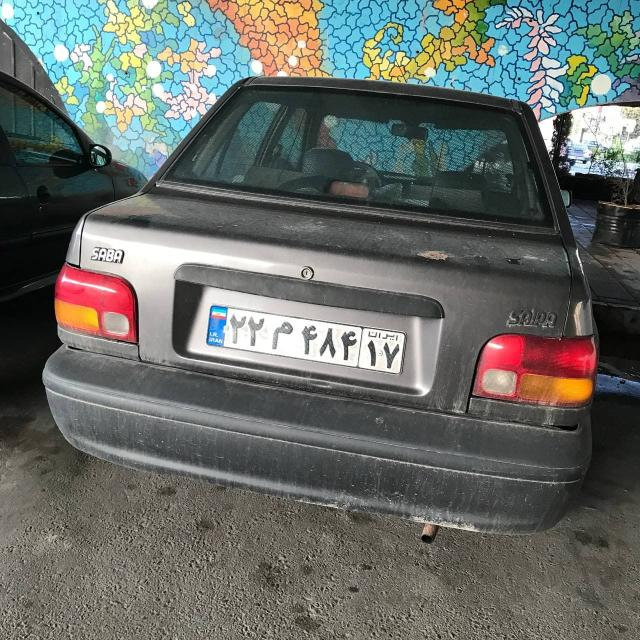Plates: (206, 305, 407, 373)
